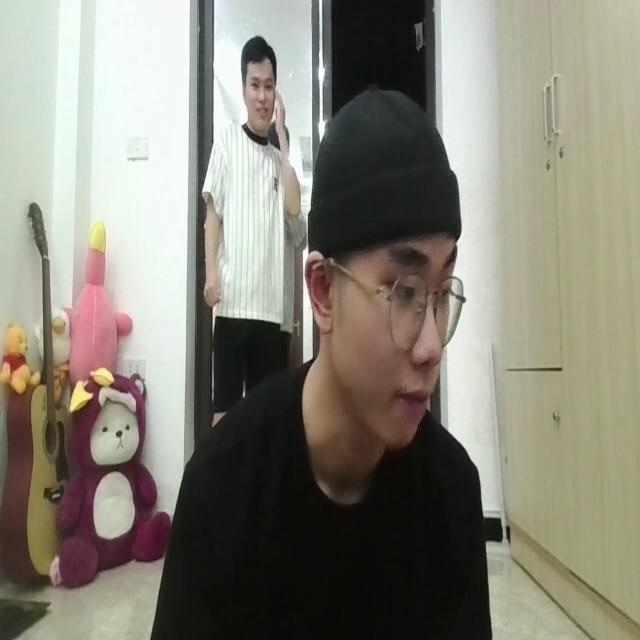extra_person: (191, 25, 298, 385)
student: (171, 77, 491, 640)
